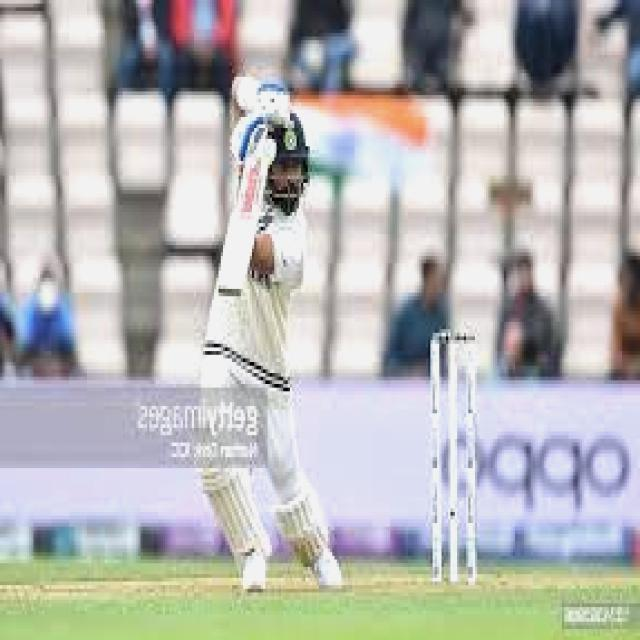bat: (210, 143, 281, 308)
toe: (218, 285, 240, 296)
